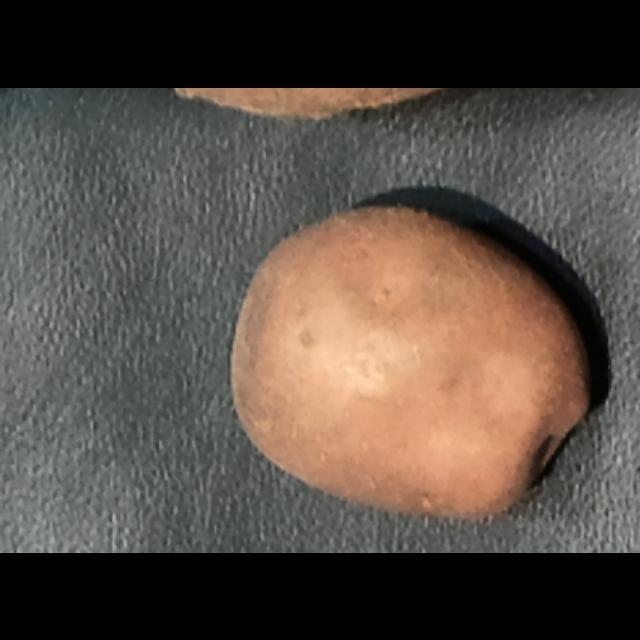Diseased-fungal potato: (214, 190, 634, 528)
